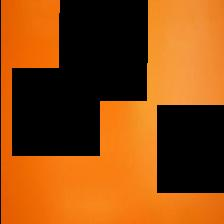orange: (0, 1, 224, 224)
